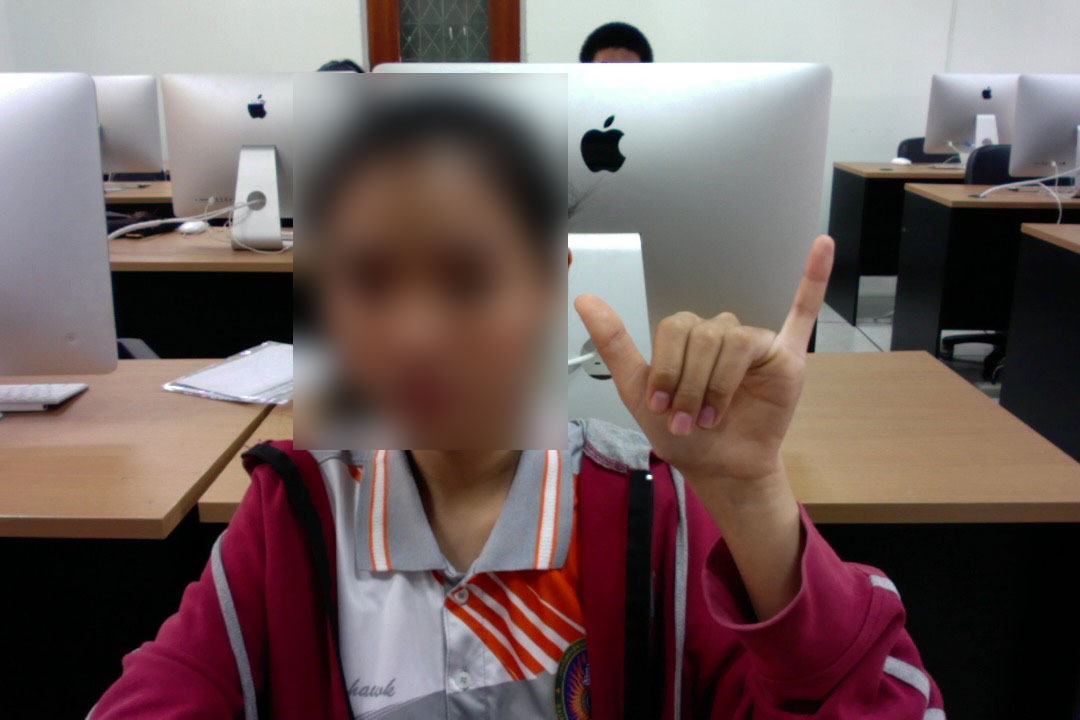yor: (564, 225, 843, 483)
